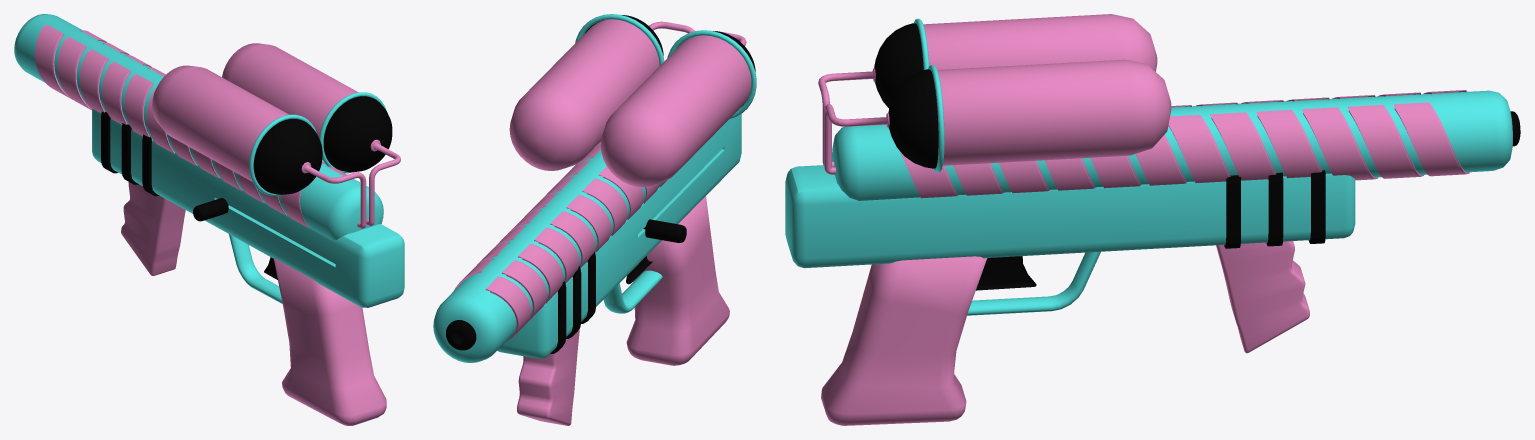
The model's file is watergun.fbx.
3 views of the same model, side by side, from view 1: azimuth 30°, elevation 25°; view 2: azimuth 150°, elevation 25°; view 3: azimuth 270°, elevation 25° (orthographic). The views are drawn at different scales.
Visible parts, largest first — view 1: Cube, Cube.002, Cube.005, Water_tank2, Cylinder, Water_tank, Cube.003, socle.001, socle, Vert.001, Pipe2, Pipe1 (+6 smaller); view 2: Water_tank2, Water_tank, Cube, Cube.005, Cube.002, Cylinder, Cube.003, Vert.001, Torus, Cylinder.002, Cylinder.001, Torus.001 (+4 smaller); view 3: Cube, Cube.005, Water_tank, Cube.002, Cylinder, Water_tank2, Cube.003, socle.001, socle, Vert.001, Cube.004, Cube.007 (+5 smaller).
Boxes of the visible parts, box(x1,y1,x2,y2) form: Cube: box(92, 109, 404, 307); Cube.002: box(273, 258, 386, 425); Cube.005: box(35, 24, 346, 227); Water_tank2: box(152, 65, 288, 181); Cylinder: box(14, 14, 383, 240); Water_tank: box(222, 43, 357, 137); Cube.003: box(121, 182, 185, 275); socle.001: box(323, 96, 392, 172); socle: box(253, 119, 322, 194); Vert.001: box(229, 234, 282, 303); Pipe2: box(301, 162, 366, 228); Pipe1: box(366, 139, 400, 225); Water_tank2: box(600, 35, 751, 186); Water_tank: box(509, 19, 659, 170); Cube: box(497, 114, 741, 358); Cube.005: box(454, 141, 667, 339); Cube.002: box(626, 196, 729, 365); Cylinder: box(433, 144, 661, 362); Cube.003: box(517, 328, 579, 425); Vert.001: box(603, 270, 662, 313); Torus: box(667, 30, 756, 118); Cylinder.002: box(643, 219, 686, 242); Cylinder.001: box(446, 320, 476, 350); Torus.001: box(575, 14, 664, 65); Cube: box(785, 165, 1355, 268); Cube.005: box(891, 90, 1469, 198); Water_tank: box(937, 59, 1171, 165); Cube.002: box(821, 256, 987, 425); Cylinder: box(832, 90, 1512, 200); Water_tank2: box(923, 14, 1157, 71); Cube.003: box(1216, 241, 1309, 353); socle.001: box(888, 69, 938, 168); socle: box(874, 23, 923, 108); Vert.001: box(967, 251, 1100, 315); Cube.004: box(976, 256, 1036, 290); Cube.007: box(1266, 172, 1283, 246).
Size of the model in its own units: 21.76 by 37.42 by 68.
